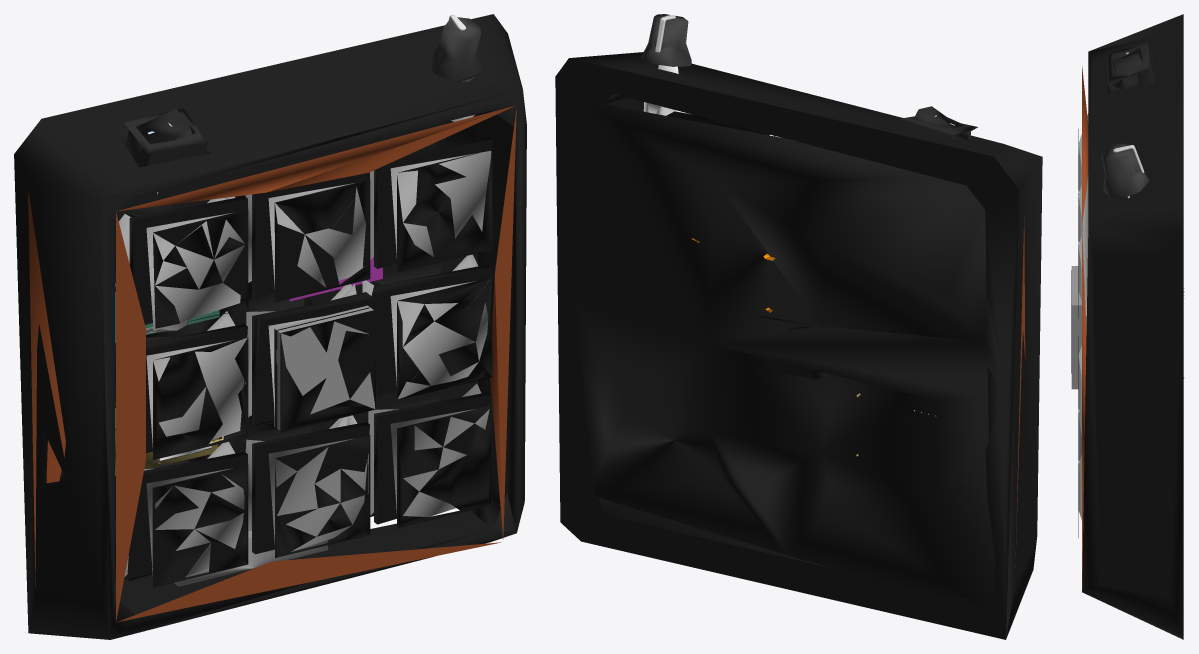
The model's file is model-lite.lod0.glb.
3 views of the same model, side by side, from view 1: azimuth 30°, elevation 25°; view 2: azimuth 150°, elevation 25°; view 3: azimuth 270°, elevation 25° (orthographic). The views are drawn at different scales.
Parts seen in each view (by area): view 1: Body1:84, Body1:60, Body1:59, top-panel, Body2, Body1:77, Body1:82; view 2: Body1:84, Body1:82, Body1:77; view 3: Body1:84, Body1:82, Body1:59, Body1:77, top-panel, Body2, Body1:60.
Part boxes in pixels (x1,y1,x2,y2): Body1:84: [14, 14, 526, 639]; Body1:60: [127, 136, 492, 587]; Body1:59: [119, 151, 491, 586]; top-panel: [28, 105, 516, 622]; Body2: [274, 305, 374, 430]; Body1:77: [124, 108, 207, 167]; Body1:82: [429, 15, 482, 81]; Body1:84: [555, 52, 1042, 639]; Body1:82: [640, 14, 691, 66]; Body1:77: [898, 106, 977, 140]; Body1:84: [1082, 14, 1183, 639]; Body1:82: [1101, 143, 1149, 197]; Body1:59: [1078, 113, 1088, 520]; Body1:77: [1106, 43, 1154, 91]; top-panel: [1082, 66, 1088, 589]; Body2: [1071, 266, 1081, 389]; Body1:60: [1071, 129, 1078, 537].
Size of what is drawn, in the model's own units: 16.45 by 17.47 by 3.82.
